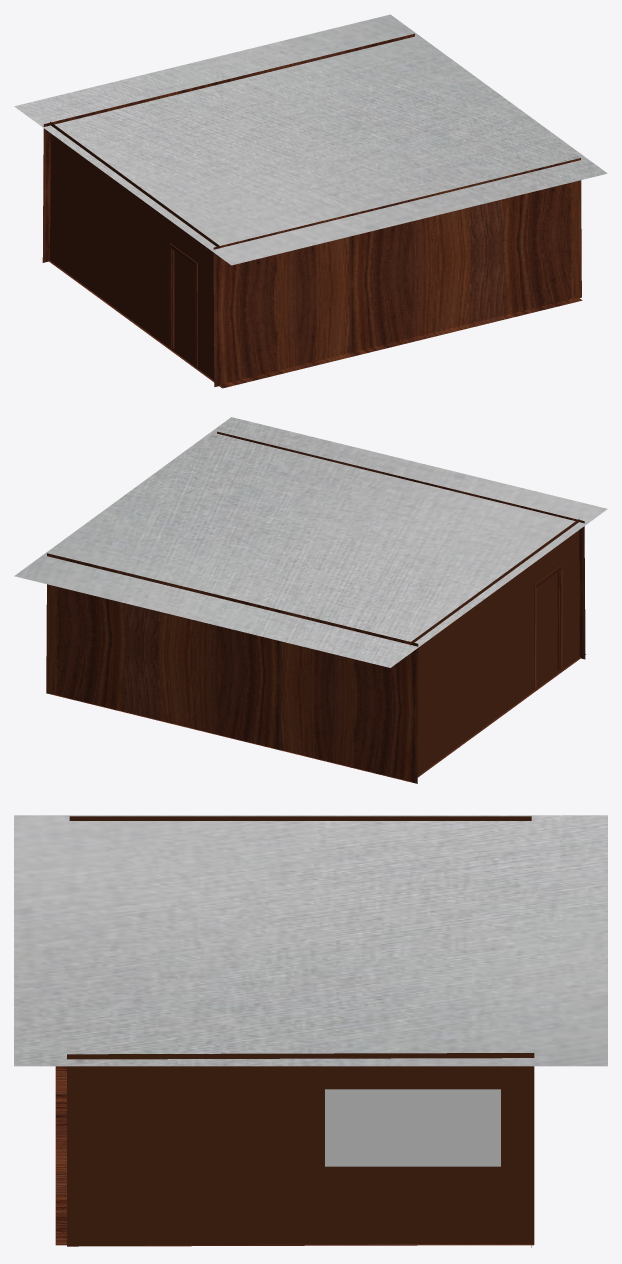
Rendered from PhongNgu5.glb.
The picture shows the model from 3 angles, top to bottom: view 1: azimuth 30°, elevation 25°; view 2: azimuth 150°, elevation 25°; view 3: azimuth 270°, elevation 25°; orthographic projection. The views are drawn at different scales.
Parts seen in each view (by area): view 1: roof, wall 3, wall2, wall 4, nen, door; view 2: roof, wall 4, wall2, wall 3, door, nen; view 3: roof, wall1, glassWindow, nen, wall2.
Part boxes in pixels (<box>): roof: <box>14,14,607,265</box>; wall 3: <box>213,158,581,386</box>; wall2: <box>50,122,219,380</box>; wall 4: <box>42,33,414,262</box>; nen: <box>48,260,582,388</box>; door: <box>169,243,197,367</box>; roof: <box>14,417,607,667</box>; wall 4: <box>46,553,418,783</box>; wall2: <box>410,519,579,775</box>; wall 3: <box>217,431,585,659</box>; door: <box>534,565,562,688</box>; nen: <box>51,654,585,782</box>; roof: <box>14,815,607,1066</box>; wall1: <box>67,1053,534,1246</box>; glassWindow: <box>325,1089,500,1166</box>; nen: <box>55,1066,533,1245</box>; wall2: <box>69,816,531,820</box>.
Size of the model in its own units: 156 by 55.86 by 156.
Materials: 11 (5 with a texture image).
